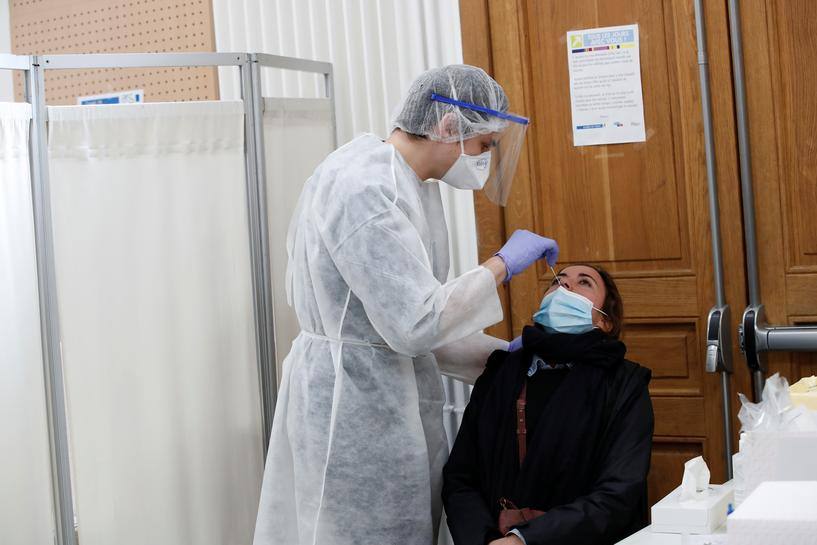Face_Shield: (444, 103, 528, 203)
Gloves: (495, 225, 561, 285)
mask_weared_incorrect: (537, 264, 604, 337)
with_mask: (438, 125, 500, 197)
